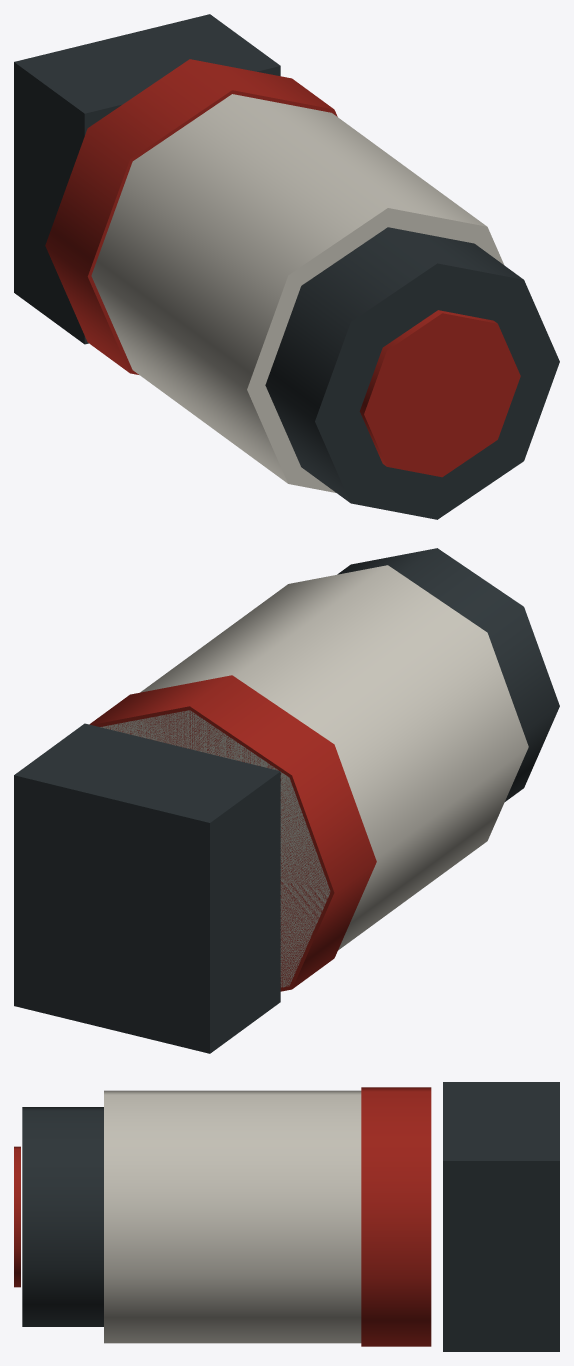
3 views of the same model, one above another, from view 1: azimuth 30°, elevation 25°; view 2: azimuth 150°, elevation 25°; view 3: azimuth 270°, elevation 25° (orthographic). The views are drawn at different scales.
Parts seen in each view (by area): view 1: nanite-hand-plasma-painted; view 2: nanite-hand-plasma-painted; view 3: nanite-hand-plasma-painted.
Boxes of the visible parts, box(x1,y1,x2,y2) form: nanite-hand-plasma-painted: box(14, 14, 559, 519); nanite-hand-plasma-painted: box(14, 548, 559, 1053); nanite-hand-plasma-painted: box(14, 1082, 559, 1351).
Size of the model in its own units: 1.14 by 1.14 by 2.26.
